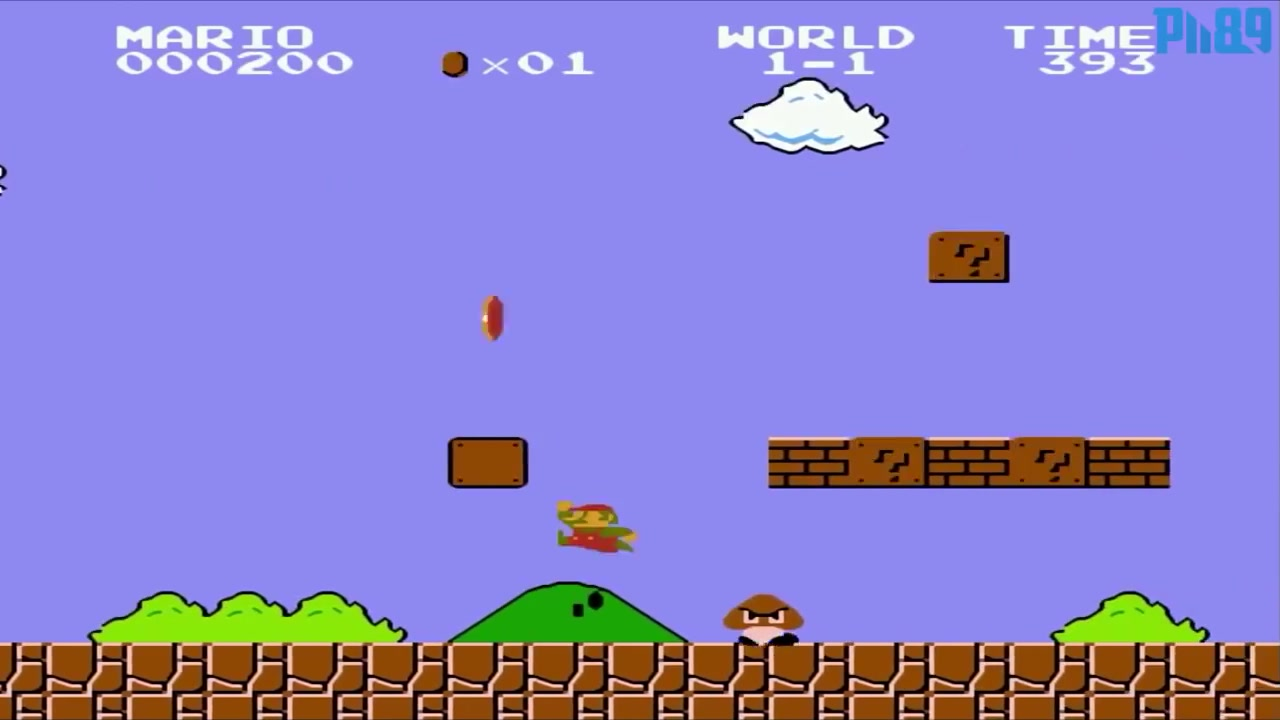mario: (549, 488, 642, 566)
